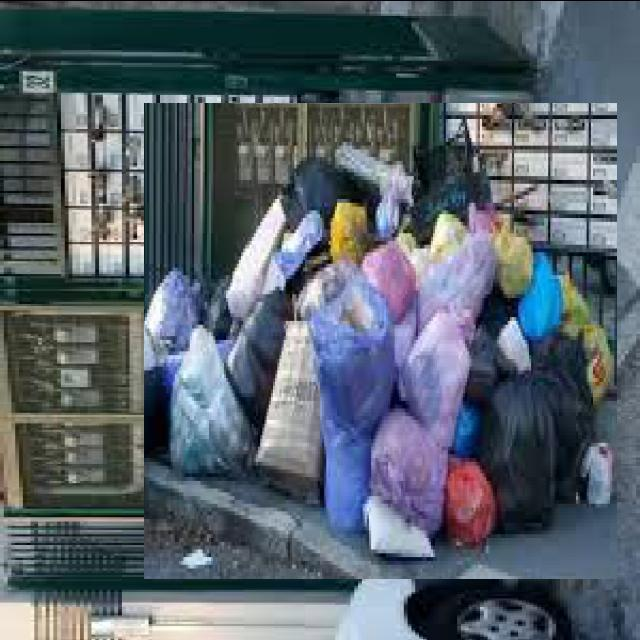Trashbag: (475, 379, 557, 531), (270, 152, 381, 246), (540, 330, 603, 460), (225, 289, 294, 405), (406, 172, 488, 240)
